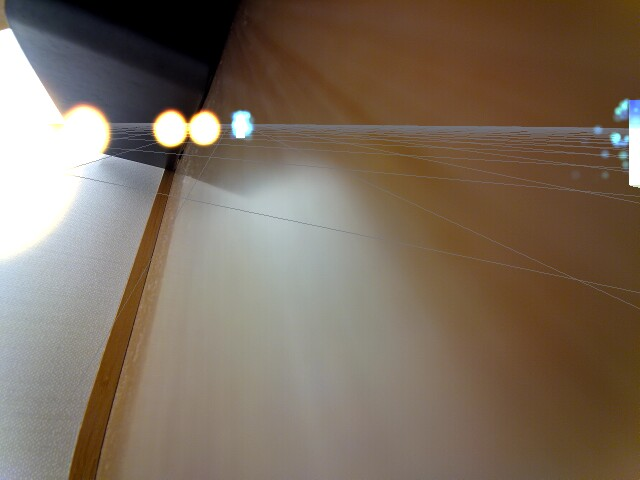fire: (0, 87, 86, 262), (63, 101, 111, 157), (186, 109, 223, 147), (153, 109, 186, 148)
